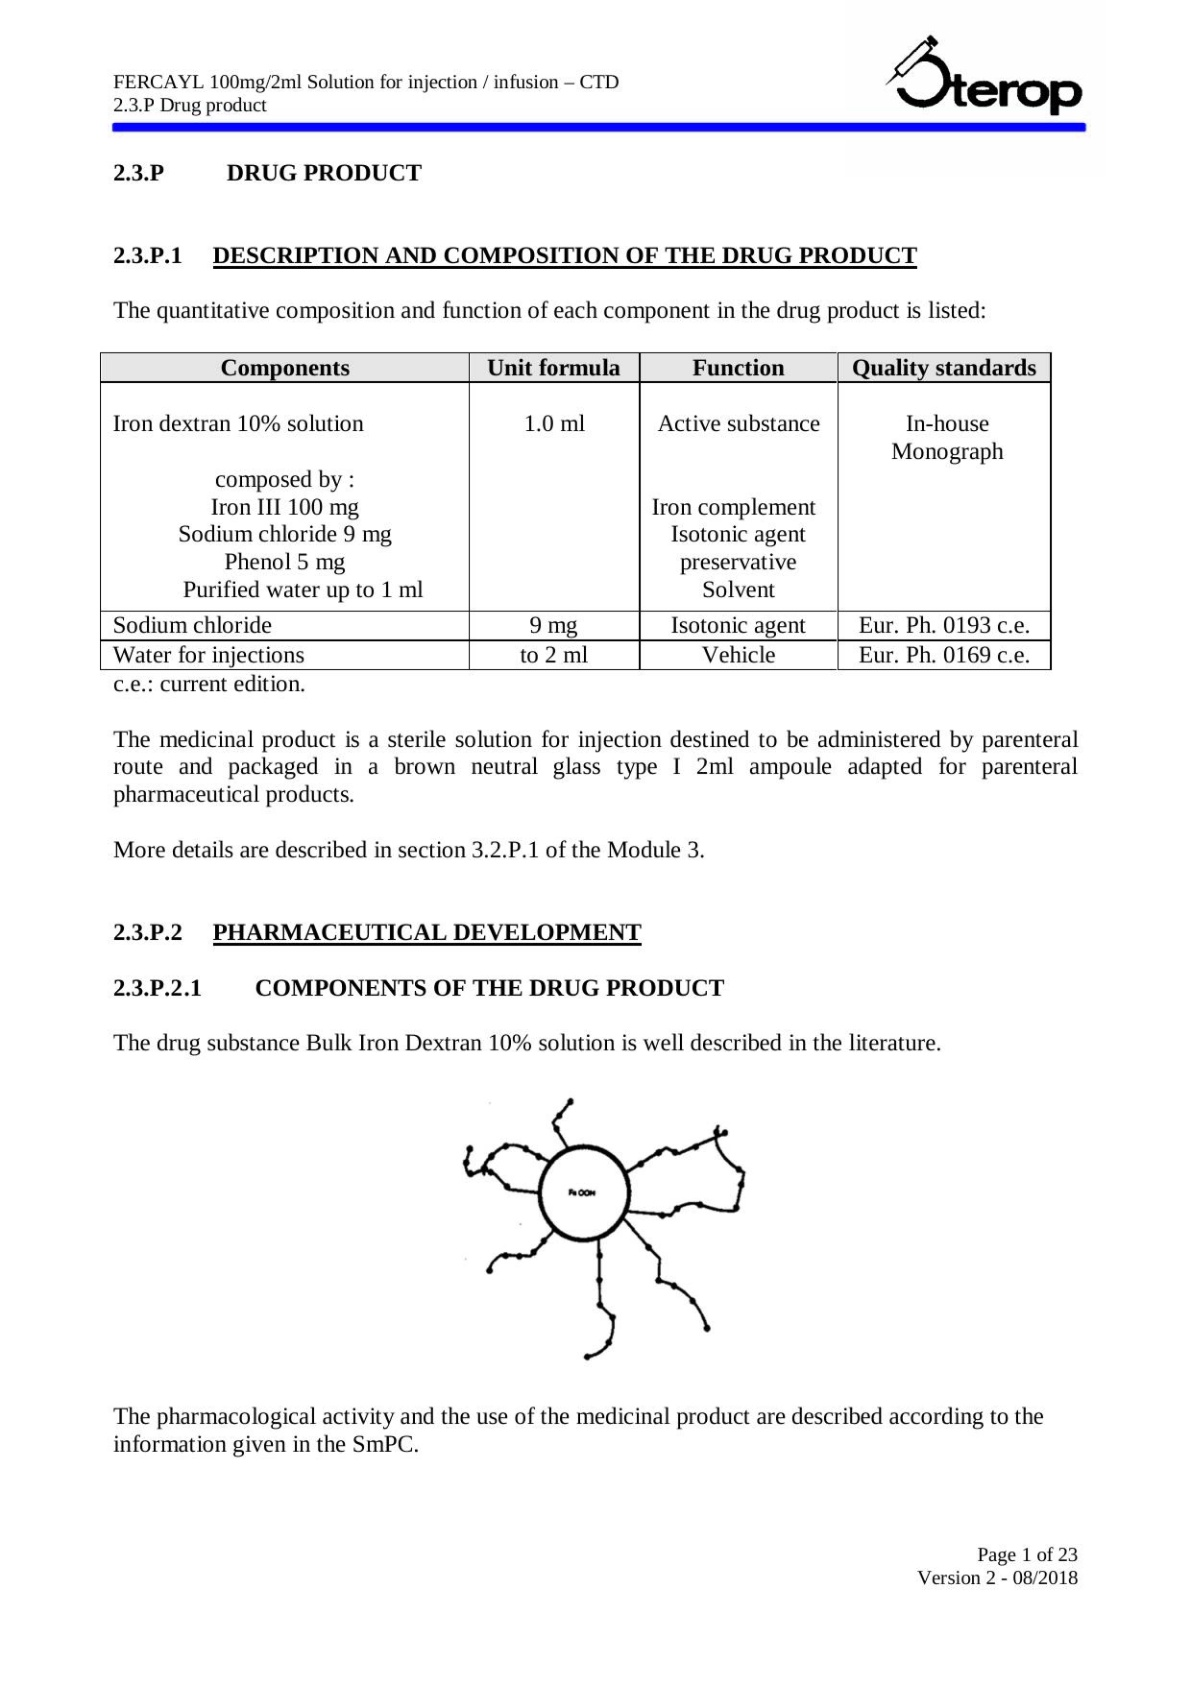full_lined: (99, 352, 1052, 670)
